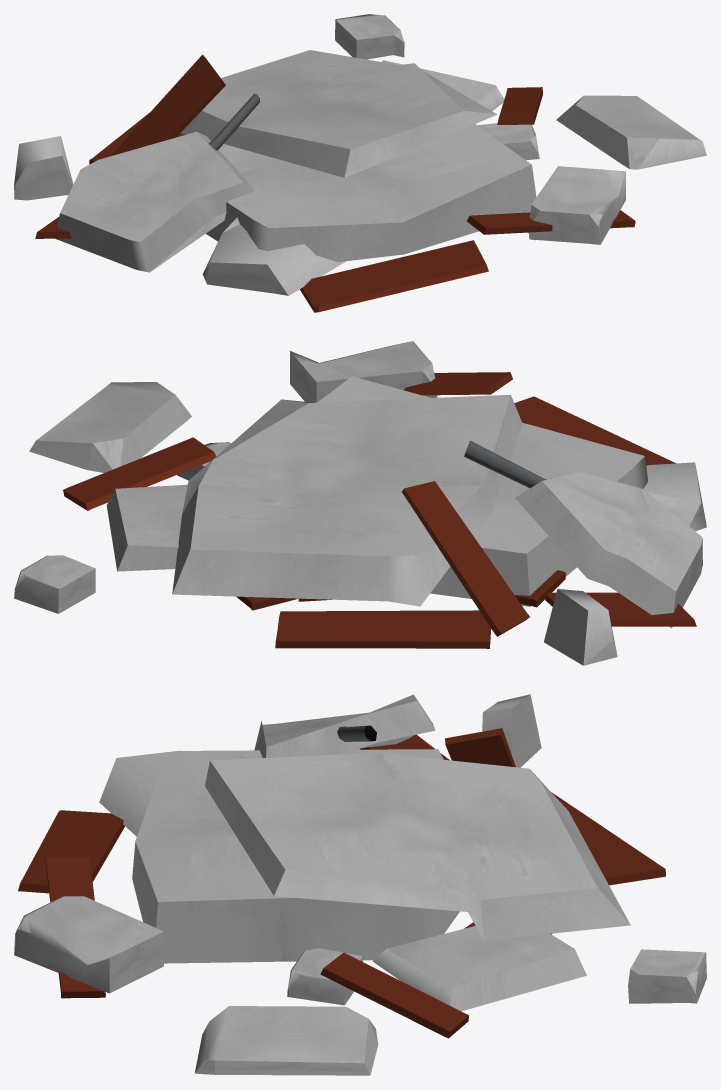
Rendered from Rubble_01.fbx.
The picture shows the model from 3 angles, top to bottom: view 1: azimuth 30°, elevation 25°; view 2: azimuth 150°, elevation 25°; view 3: azimuth 270°, elevation 25°; orthographic projection. The views are drawn at different scales.
Parts seen in each view (by area): view 1: Rubble_01A; view 2: Rubble_01A; view 3: Rubble_01A.
Boxes of the visible parts, x1=… form: Rubble_01A: x1=14, y1=14, x2=706, y2=312; Rubble_01A: x1=14, y1=341, x2=706, y2=665; Rubble_01A: x1=14, y1=694, x2=706, y2=1075.
Size of the model in its own units: 6.16 by 1.09 by 5.15.
